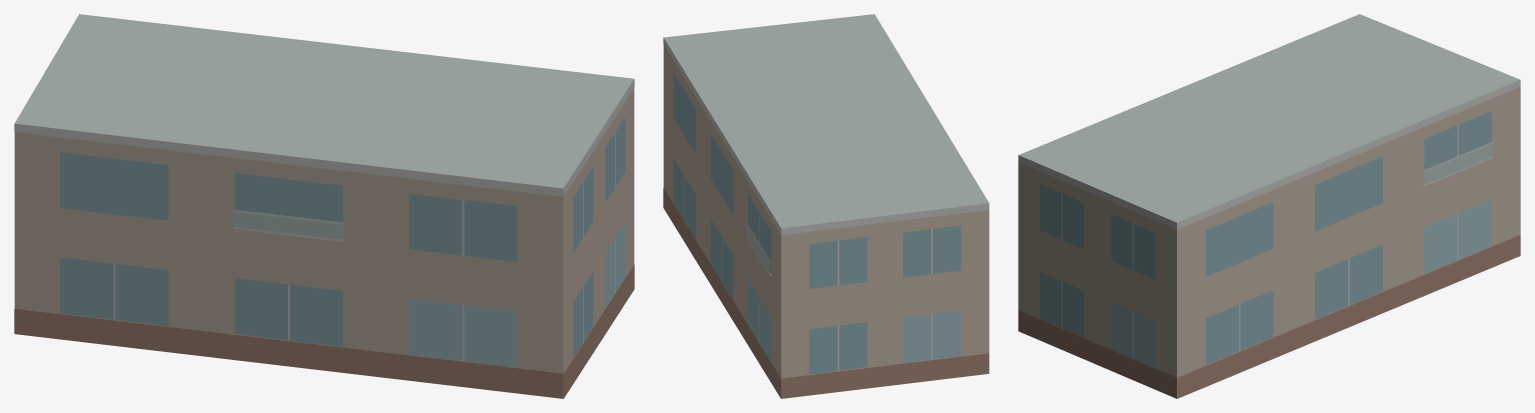
The model's file is survey-upis-32721887.glb.
3 views of the same model, side by side, from view 1: azimuth 30°, elevation 25°; view 2: azimuth 150°, elevation 25°; view 3: azimuth 270°, elevation 25° (orthographic). The views are drawn at different scales.
Visible parts, largest first — view 1: survey-upis-32721887.tmp; view 2: survey-upis-32721887.tmp; view 3: survey-upis-32721887.tmp.
Part boxes in pixels (<box>): survey-upis-32721887.tmp: <box>14,14,634,398</box>; survey-upis-32721887.tmp: <box>663,14,989,398</box>; survey-upis-32721887.tmp: <box>1018,14,1520,398</box>.
Bounding box in the file's own units: 15.51 × 6.1 × 15.77.
